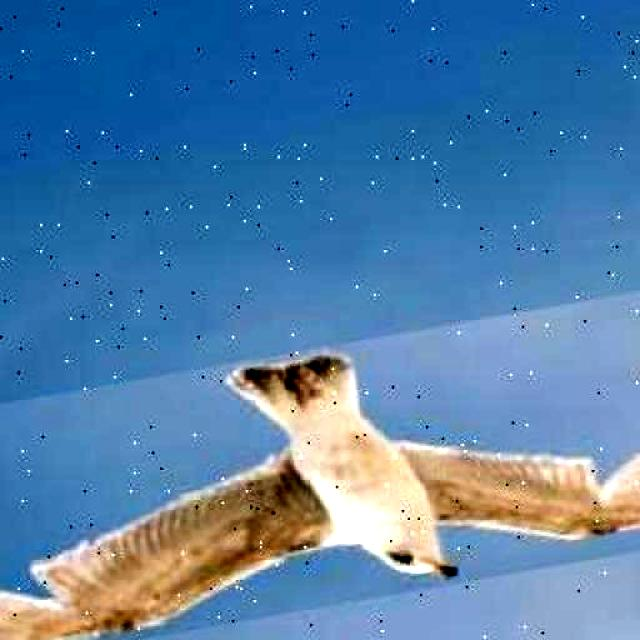airplane: (0, 272, 640, 640)
